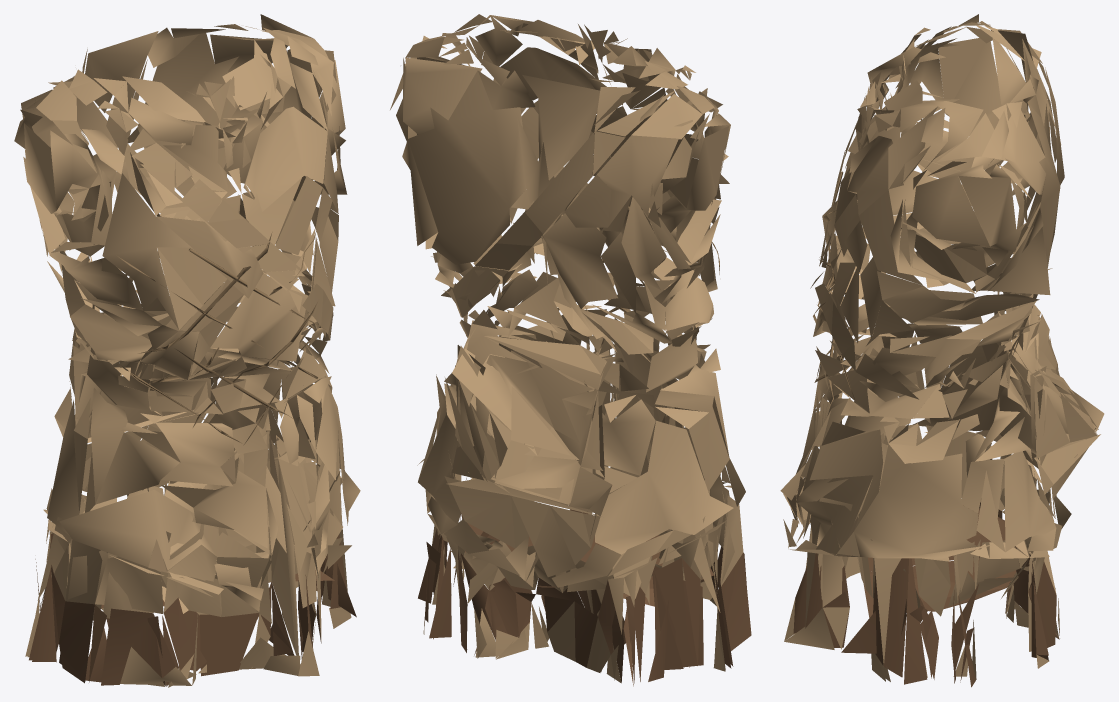
File: armor_mk1_meshy_low.glb
3 renders of one model, left to right at view 1: azimuth 30°, elevation 25°; view 2: azimuth 150°, elevation 25°; view 3: azimuth 270°, elevation 25°, orthographic. The views are drawn at different scales.
Parts seen in each view (by area): view 1: output_unwrapped, quilt stitch.007; view 2: output_unwrapped; view 3: output_unwrapped.
Boxes of the visible parts, <box> form: output_unwrapped: <box>14,14,360,687</box>; quilt stitch.007: <box>138,232,272,353</box>; output_unwrapped: <box>390,14,751,686</box>; output_unwrapped: <box>780,14,1104,687</box>.
Size of the model in its own units: 0.5927 by 1.06 by 0.5536.
